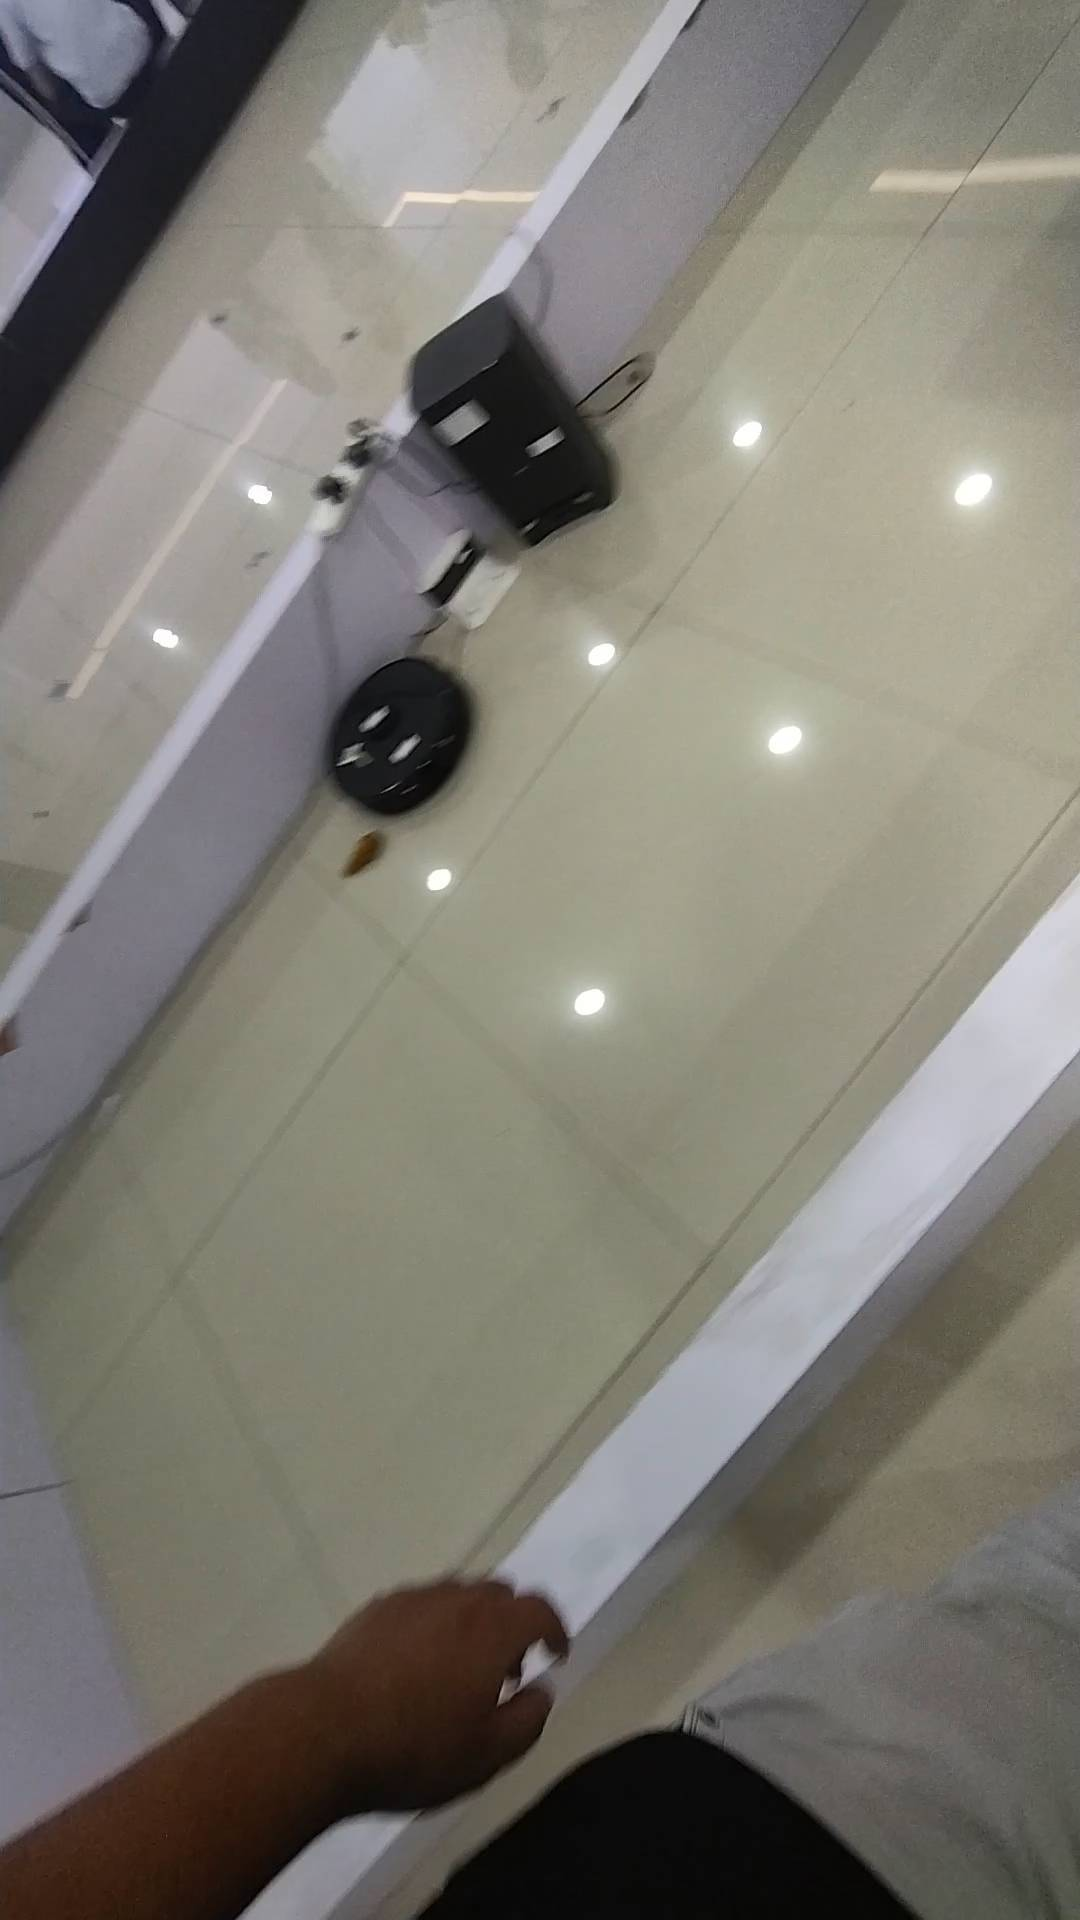dust collecting barrel: (404, 294, 615, 546)
recharge seat: (415, 527, 524, 636)
